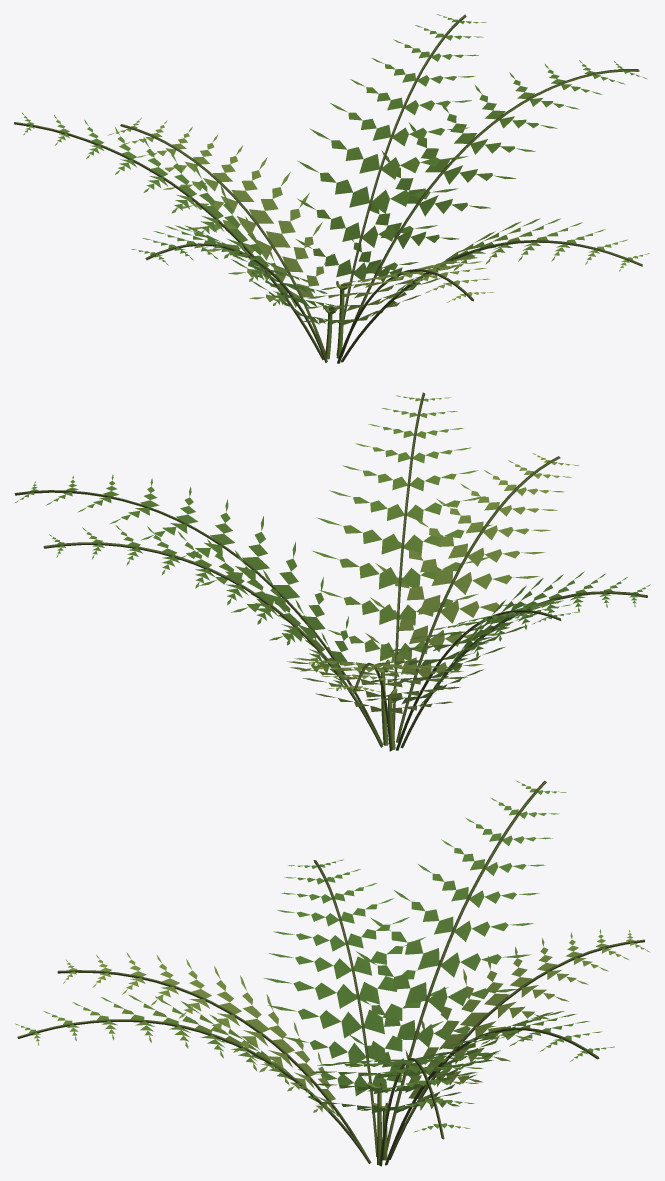
Rendered from fern-bracken-b.lod0.glb.
3 renders of one model, top to bottom at view 1: azimuth 30°, elevation 25°; view 2: azimuth 150°, elevation 25°; view 3: azimuth 270°, elevation 25°, orthographic. The views are drawn at different scales.
Parts seen in each view (by area): view 1: fern-bracken-b.lod0; view 2: fern-bracken-b.lod0; view 3: fern-bracken-b.lod0.
Part boxes in pixels (x1,y1,x2,y2): fern-bracken-b.lod0: [14, 14, 649, 363]; fern-bracken-b.lod0: [14, 392, 650, 751]; fern-bracken-b.lod0: [15, 780, 650, 1166].
Size of the model in its own units: 2.06 by 0.8129 by 1.83.
